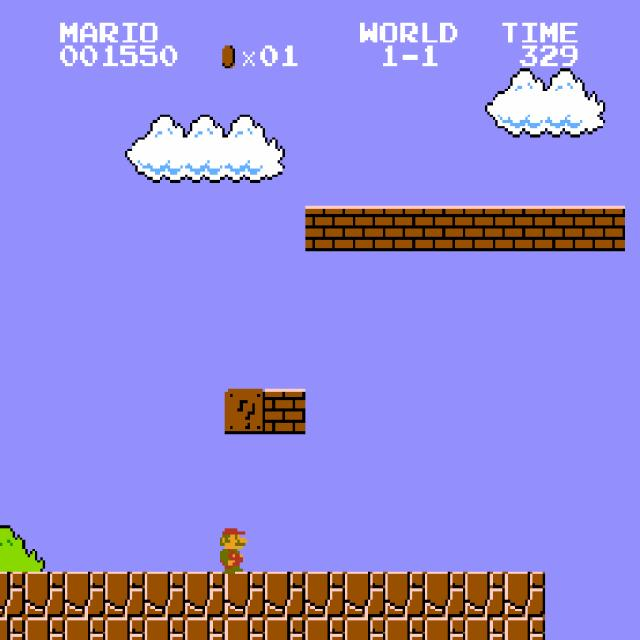brick_block: (265, 389, 305, 434), (305, 206, 345, 251), (345, 206, 385, 251), (385, 206, 425, 251), (425, 206, 465, 251), (465, 206, 505, 251), (505, 206, 545, 251), (545, 206, 585, 251), (585, 206, 625, 251)
little_mario: (210, 526, 253, 574)
mystery_block: (225, 389, 265, 434)
undestructible_block: (25, 572, 65, 617), (65, 572, 105, 617), (105, 572, 145, 617), (145, 572, 185, 617), (185, 572, 225, 617), (225, 572, 265, 617), (265, 572, 305, 617), (305, 572, 345, 617), (345, 572, 385, 617), (385, 572, 425, 617), (425, 572, 465, 617), (465, 572, 505, 617), (505, 572, 545, 617), (0, 571, 25, 617), (25, 617, 65, 640), (65, 617, 105, 640), (105, 617, 145, 640), (145, 617, 185, 640), (185, 617, 225, 640), (225, 617, 265, 640), (265, 617, 305, 640), (305, 617, 345, 640), (345, 617, 385, 640), (385, 617, 425, 640), (425, 617, 465, 640), (465, 617, 505, 640), (505, 617, 545, 640), (0, 617, 25, 639)
